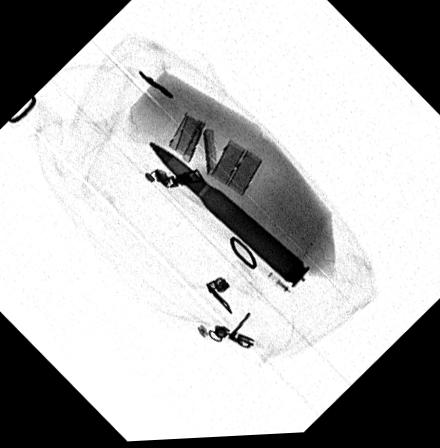Bullet: (146, 140, 311, 293)
